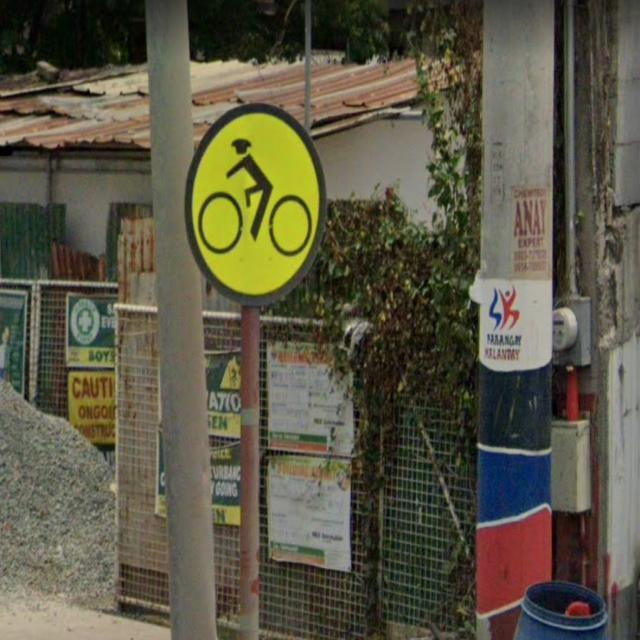bike lane: (184, 103, 326, 306)
